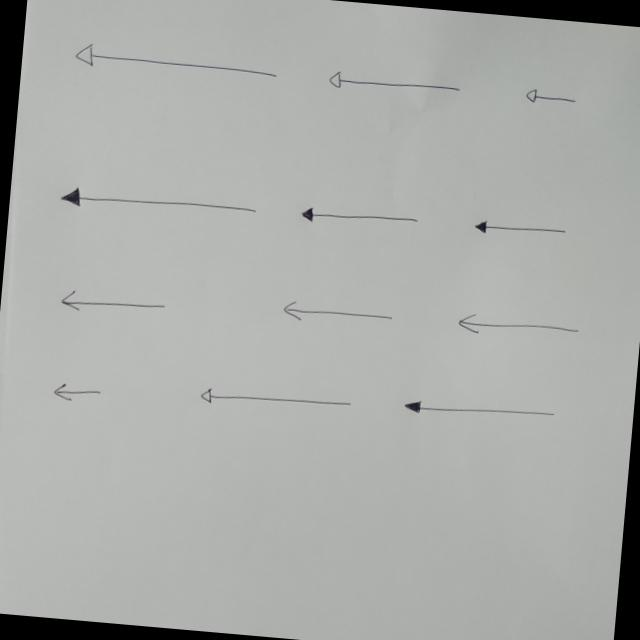arrow_line_left: (68, 38, 281, 88), (57, 180, 260, 224), (194, 378, 358, 421), (397, 389, 559, 426), (453, 304, 583, 348), (326, 68, 464, 102), (277, 293, 394, 332), (296, 199, 422, 235), (56, 284, 170, 320), (470, 214, 570, 245), (518, 81, 582, 110), (46, 379, 108, 406)
